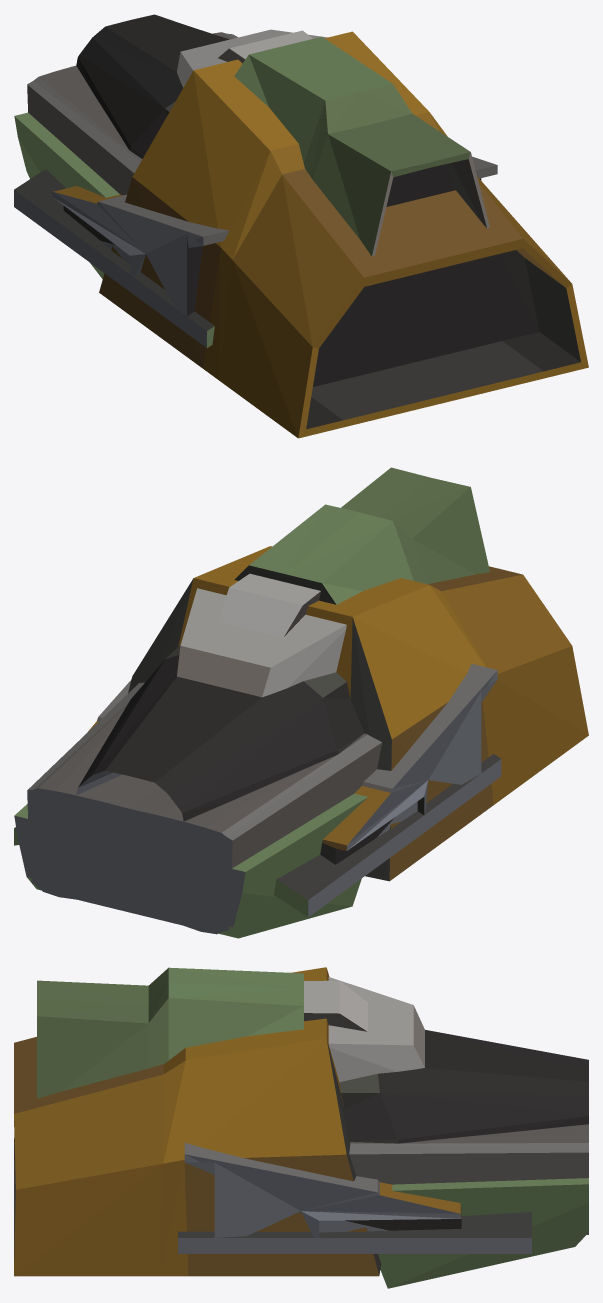
Rendered from fuselage.glb.
3 views of the same model, one above another, from view 1: azimuth 30°, elevation 25°; view 2: azimuth 150°, elevation 25°; view 3: azimuth 270°, elevation 25° (orthographic). The views are drawn at different scales.
Size of the model in its own units: 1.04 by 0.9428 by 1.92.
